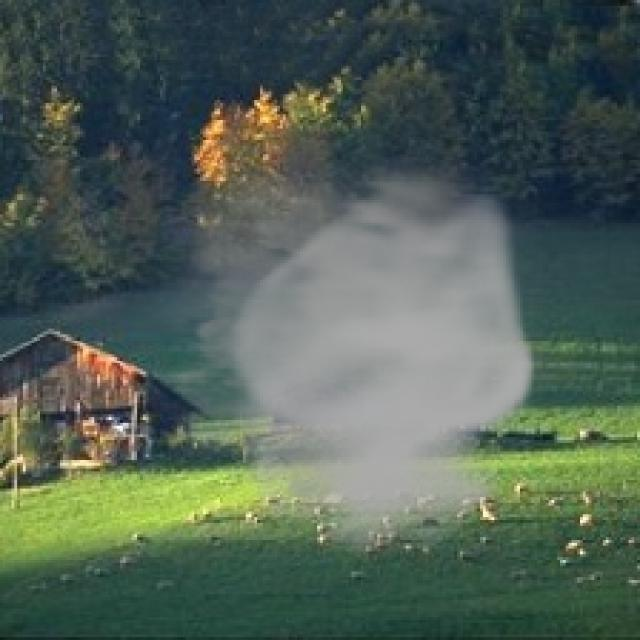Smoke: (120, 140, 543, 554)
